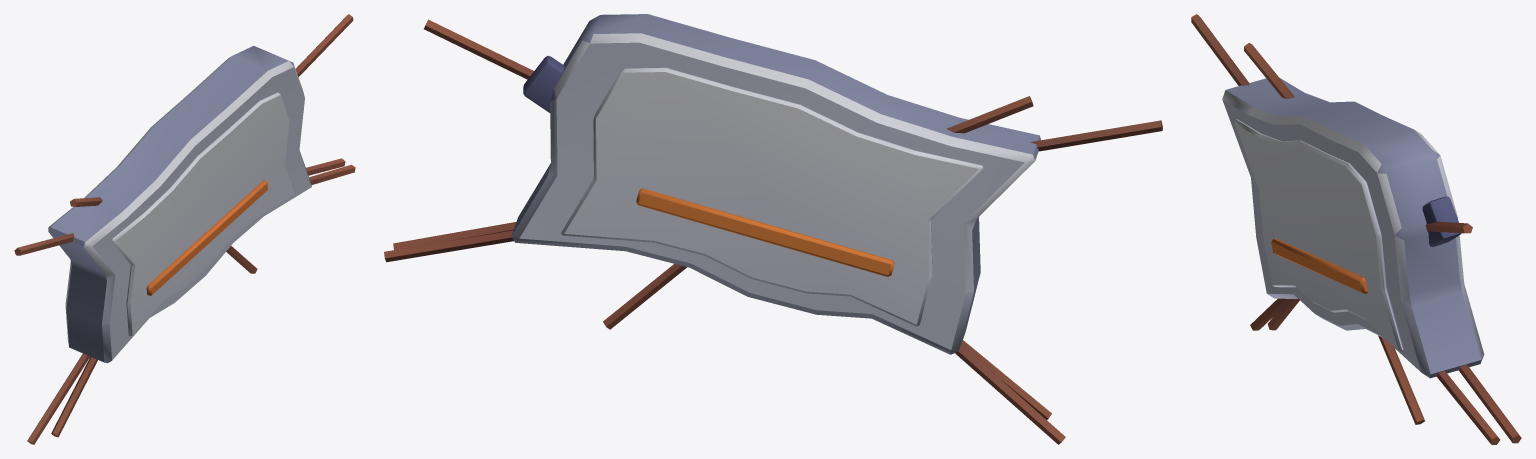
File: hub_ruin_debris_c.glb
3 renders of one model, left to right at view 1: azimuth 30°, elevation 25°; view 2: azimuth 150°, elevation 25°; view 3: azimuth 270°, elevation 25°, orthographic. The views are drawn at different scales.
Parts seen in each view (by area): view 1: hub_ruin_debris_c; view 2: hub_ruin_debris_c; view 3: hub_ruin_debris_c.
Boxes of the visible parts, left/top/right/bottom form: hub_ruin_debris_c: left=14, top=14, right=355, bottom=444; hub_ruin_debris_c: left=384, top=14, right=1162, bottom=444; hub_ruin_debris_c: left=1191, top=14, right=1521, bottom=444.
Bounding box in the file's own units: 4.78 × 2.85 × 2.39.
